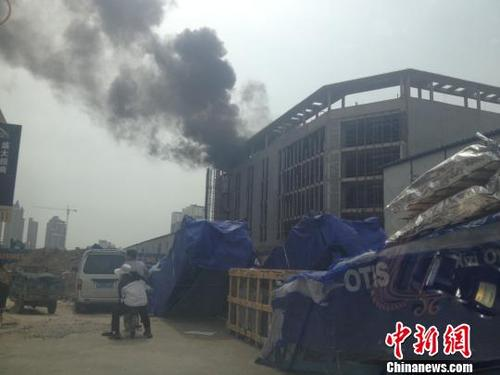smoke: (36, 2, 235, 170)
